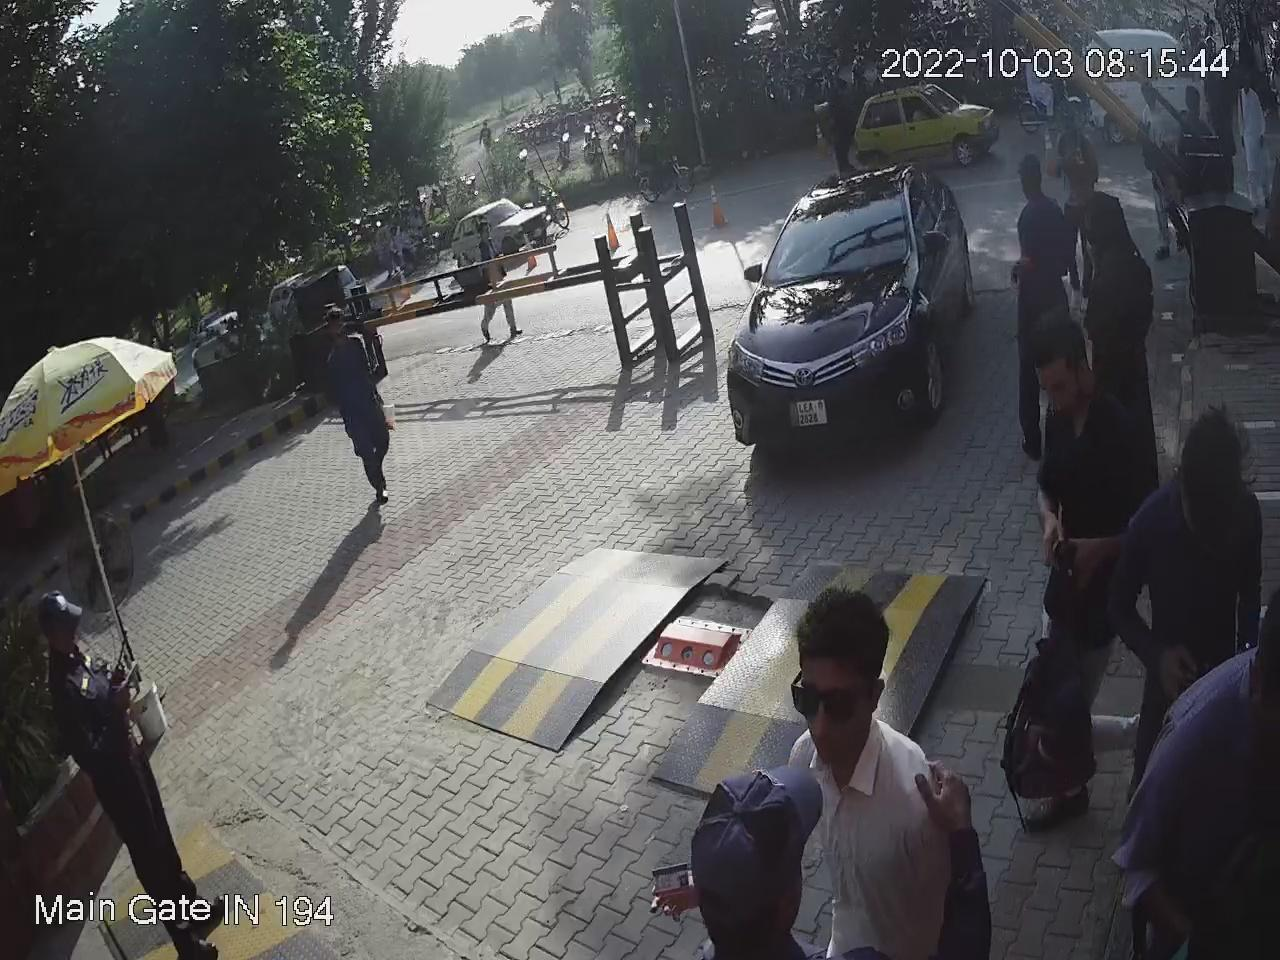windshield: (760, 172, 913, 295)
